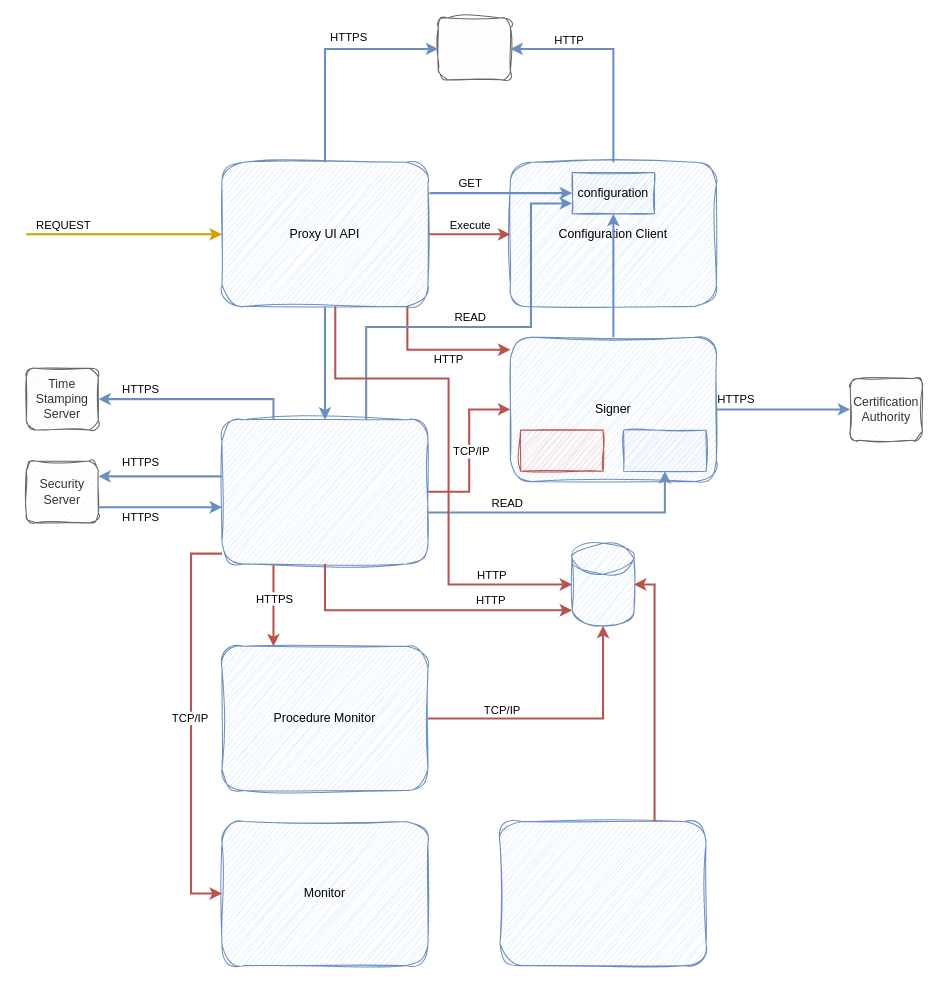
This 940x984 diagram has some shape labels left out. The centre of each missing label's shape, as x and y in pixels:
Central Server: point (473, 48)
key config: point (664, 450)
keystore: point (561, 450)
Log: point (602, 893)
Proxy: point (324, 491)
